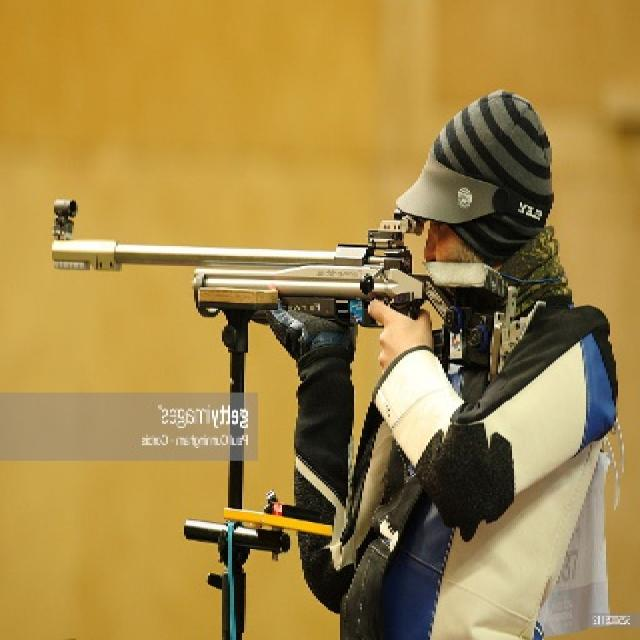rifle: (45, 192, 519, 361)
